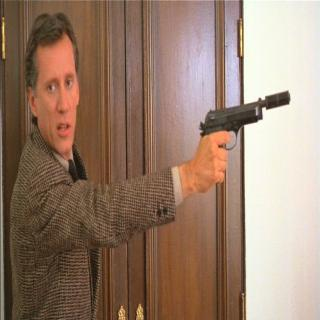gun: (192, 89, 293, 206)
